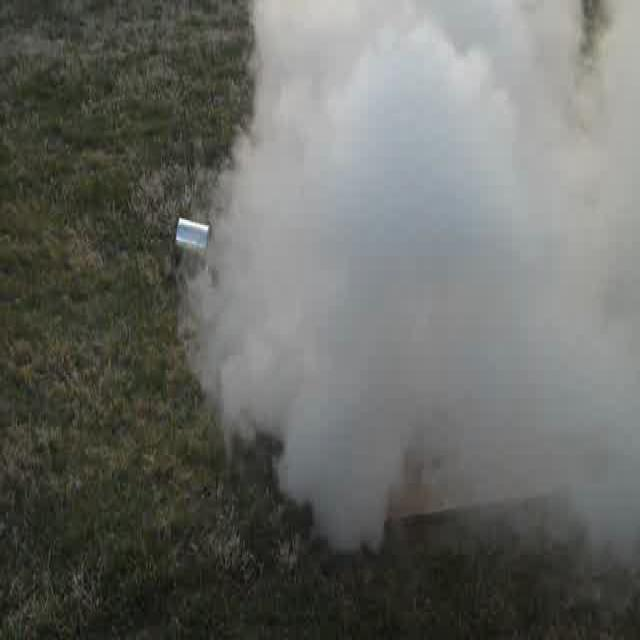Smoke: (241, 4, 638, 508)
